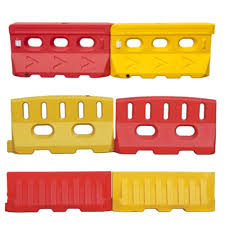barrier: (4, 95, 114, 157), (115, 93, 213, 160), (110, 19, 211, 79), (7, 21, 110, 79), (113, 168, 220, 213), (5, 170, 113, 214)
